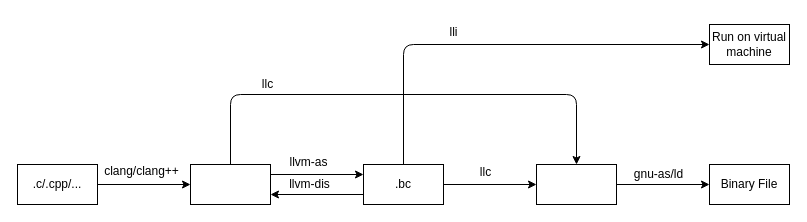
Some shapes in this 807 by 222 pixel diagram are drawn without their labels. The centre of each missing label's shape, as x and y in pixels:
".ll" belongs at (230,184).
".s" belongs at (576,184).
